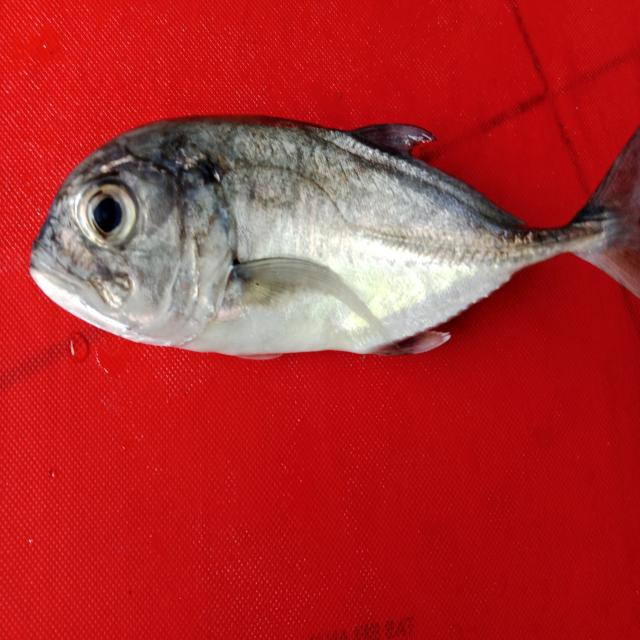ikan: (21, 74, 613, 381)
